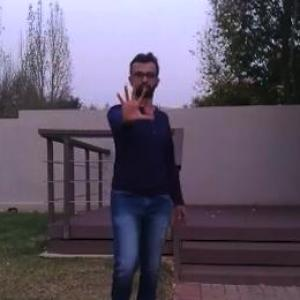follow_hand: (112, 80, 157, 126)
